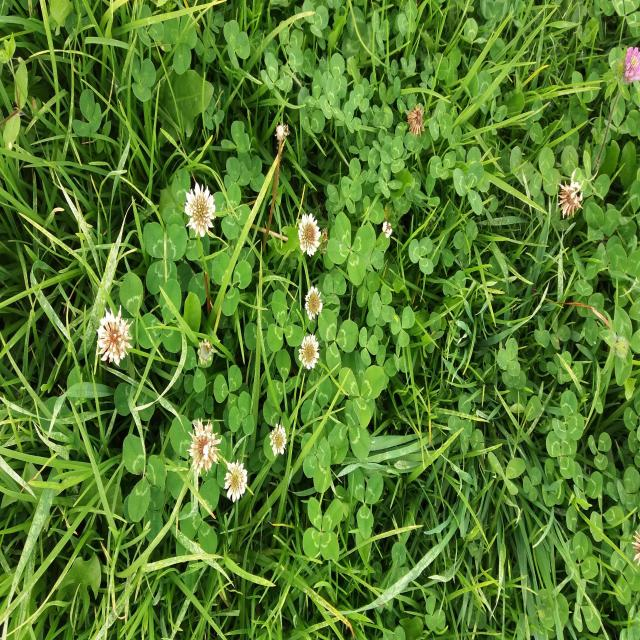Four Leaf Clover: (326, 211, 374, 285), (143, 221, 187, 296), (303, 497, 344, 561), (212, 184, 252, 240)
